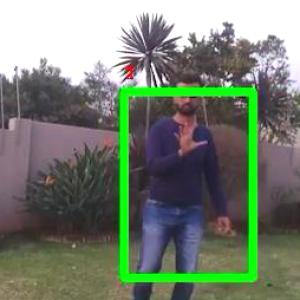follow_hand: (172, 114, 206, 156)
